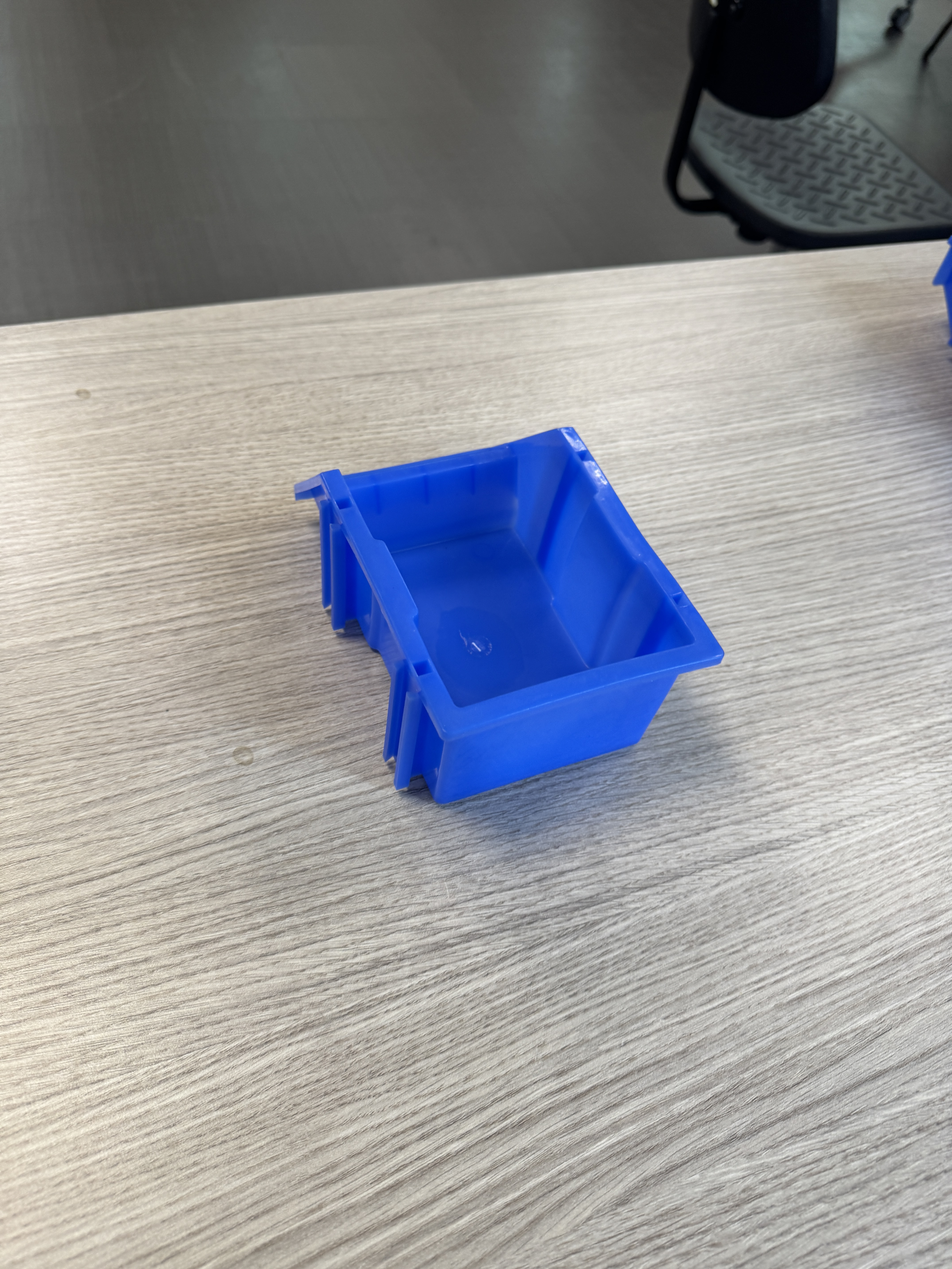Bin Boundary: (349, 380, 696, 749)
